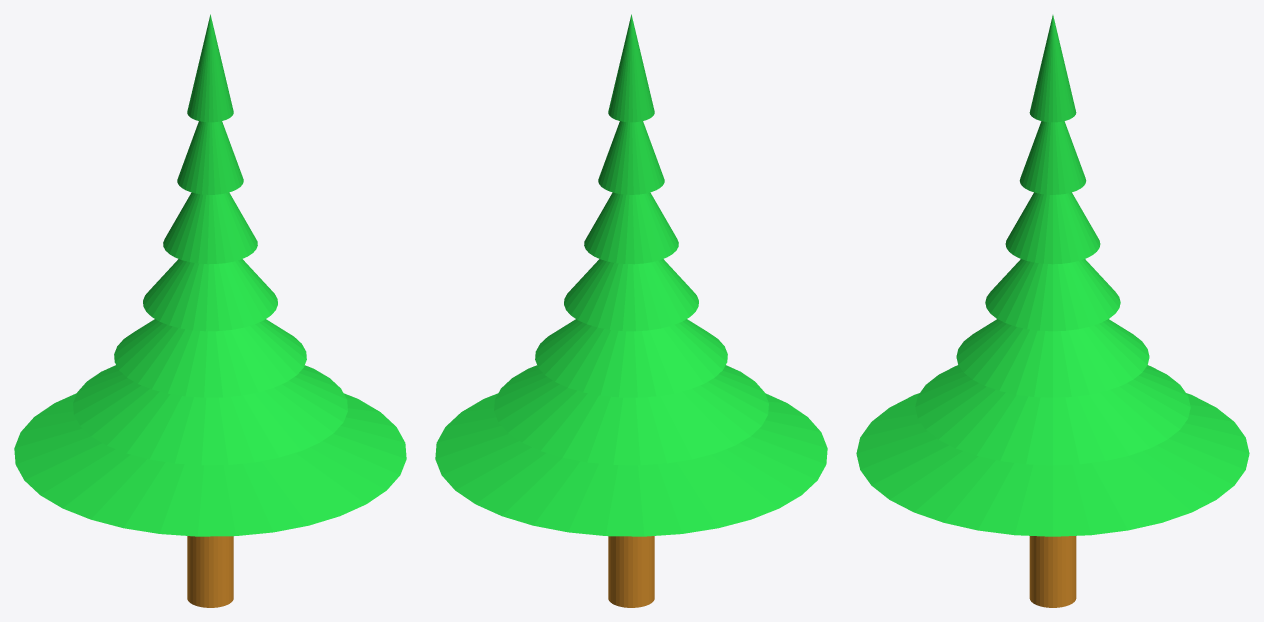
Rendered from tree_1111.glb.
3 views of the same model, side by side, from view 1: azimuth 30°, elevation 25°; view 2: azimuth 150°, elevation 25°; view 3: azimuth 270°, elevation 25° (orthographic).
Parts seen in each view (by area): view 1: Cone.004, Cylinder.004; view 2: Cone.004, Cylinder.004; view 3: Cone.004, Cylinder.004.
Part boxes in pixels (left/top/right/bottom): Cone.004: left=14, top=14, right=406, bottom=536; Cylinder.004: left=187, top=536, right=233, bottom=607; Cone.004: left=435, top=14, right=827, bottom=536; Cylinder.004: left=608, top=536, right=654, bottom=607; Cone.004: left=856, top=15, right=1249, bottom=536; Cylinder.004: left=1029, top=536, right=1076, bottom=607.
Size of the model in its own units: 11.48 by 18.81 by 11.48.
